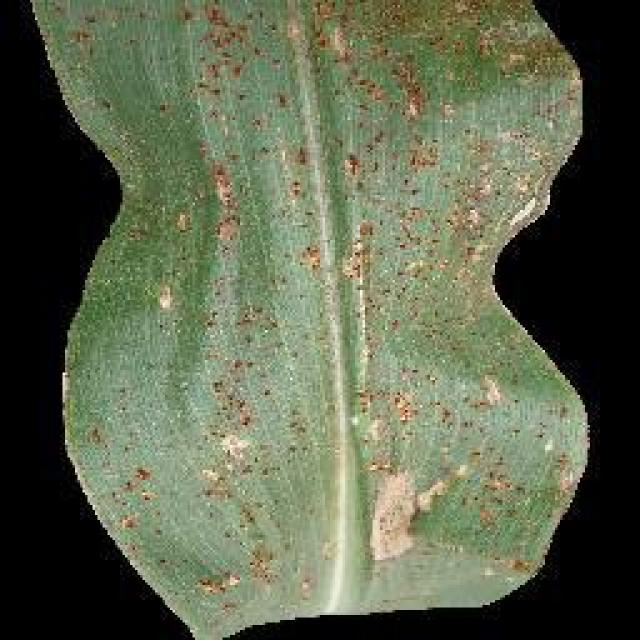Corn Common Rust: (117, 27, 550, 470)
